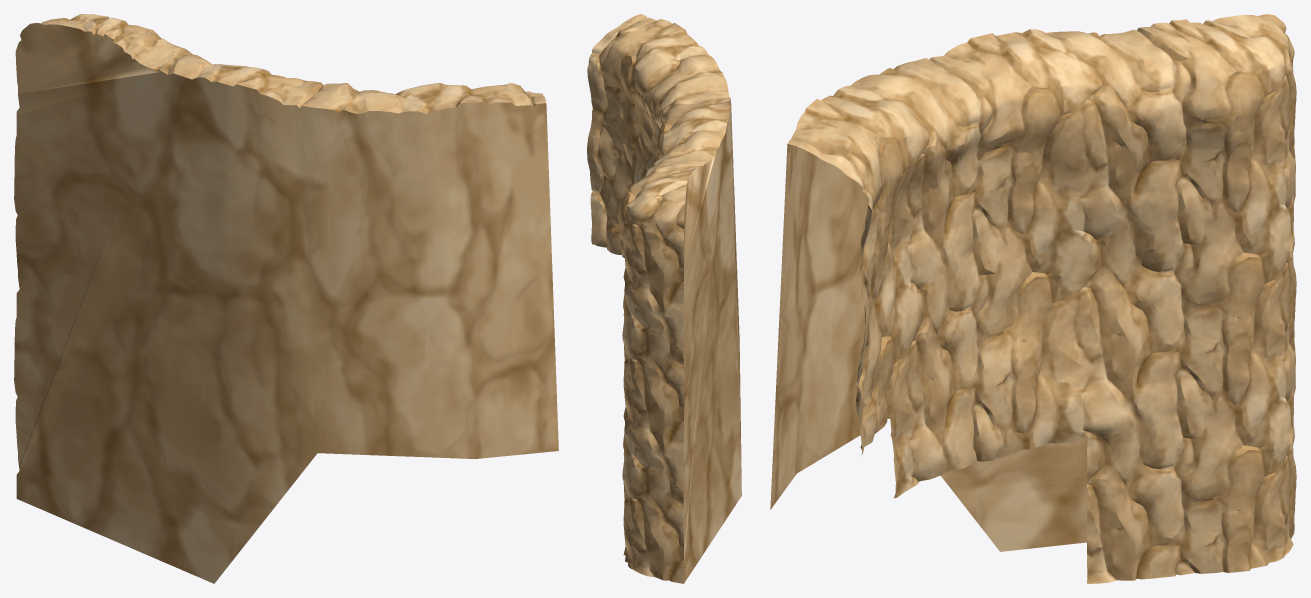
Rendered from SM_ENV_KNFRST_Wall_Aa.FBX.
3 views of the same model, side by side, from view 1: azimuth 30°, elevation 25°; view 2: azimuth 150°, elevation 25°; view 3: azimuth 270°, elevation 25° (orthographic). The views are drawn at different scales.
Visible parts, largest first — view 1: SM_ENV_KNFRST_Wall_Aa; view 2: SM_ENV_KNFRST_Wall_Aa; view 3: SM_ENV_KNFRST_Wall_Aa.
Part boxes in pixels (x1=…): SM_ENV_KNFRST_Wall_Aa: x1=14, y1=14, x2=558, y2=583; SM_ENV_KNFRST_Wall_Aa: x1=587, y1=14, x2=741, y2=583; SM_ENV_KNFRST_Wall_Aa: x1=770, y1=14, x2=1296, y2=583.
Bounding box in the file's own units: 4241 × 6263 × 5568.
